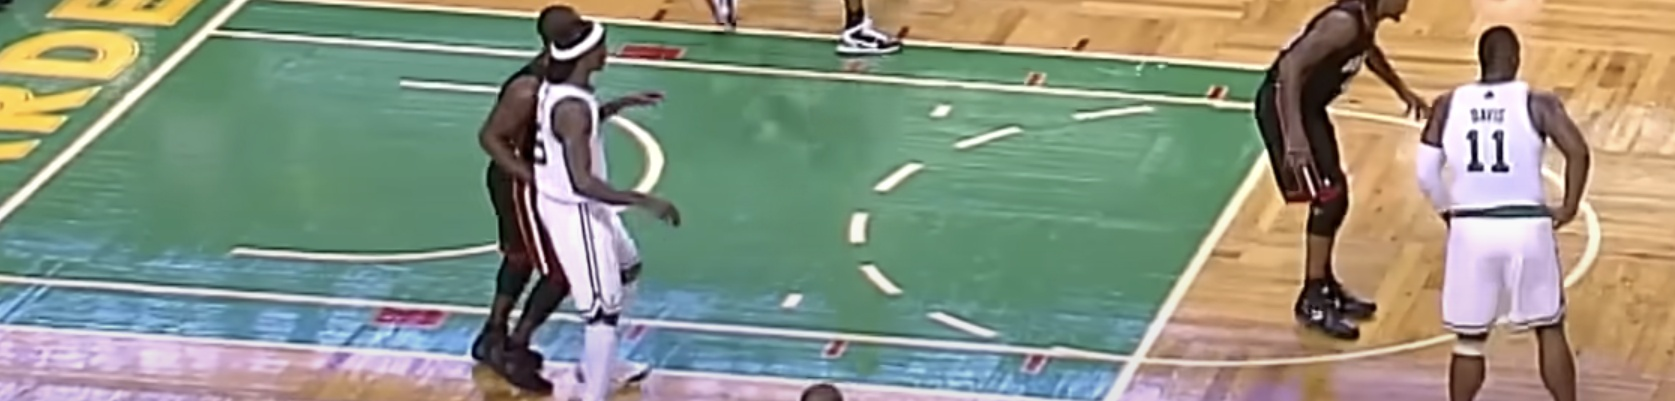endLine: (1, 2, 242, 218)
freeThrow: (1107, 75, 1316, 401)
lane: (1, 325, 1038, 401), (331, 2, 1314, 76)
